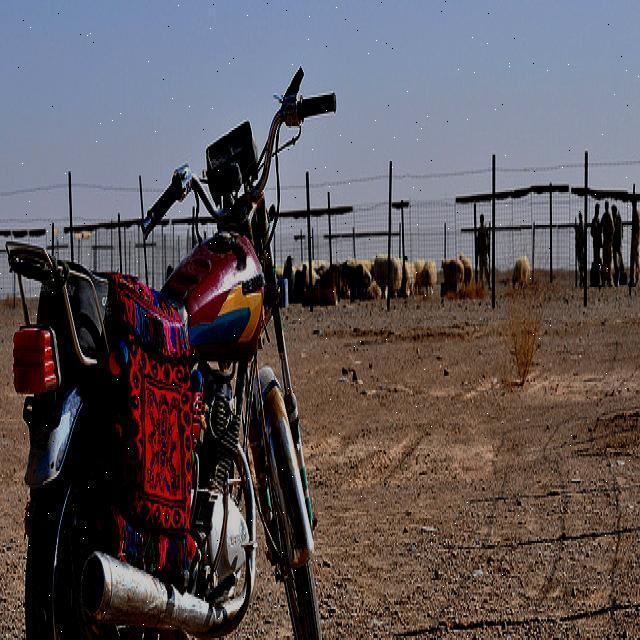motorcycle: (2, 91, 348, 640)
